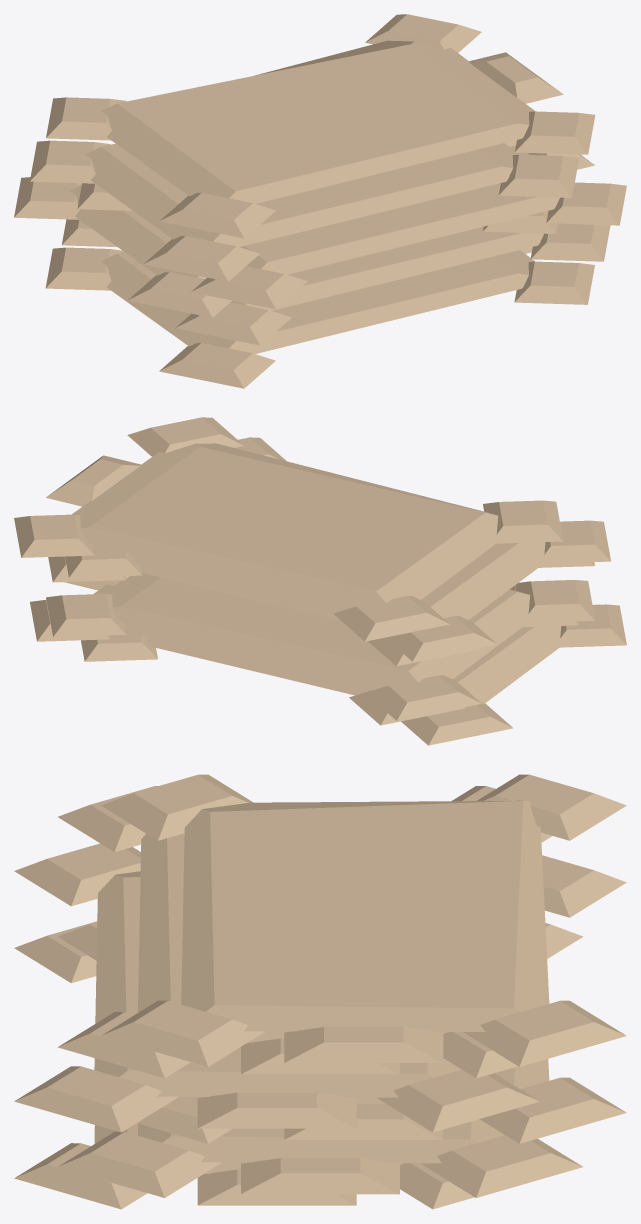
The model's file is item_006_hide_l.glb.
The picture shows the model from 3 angles, top to bottom: view 1: azimuth 30°, elevation 25°; view 2: azimuth 150°, elevation 25°; view 3: azimuth 270°, elevation 25°; orthographic projection. The views are drawn at different scales.
Parts seen in each view (by area): view 1: item_006_hide_l; view 2: item_006_hide_l; view 3: item_006_hide_l.
Boxes of the visible parts, x1,y1,x2,y2 form: item_006_hide_l: (14,14,626,388); item_006_hide_l: (14,417,626,745); item_006_hide_l: (14,774,626,1209).
Size of the model in its own units: 1.03 by 0.2841 by 0.8476.
